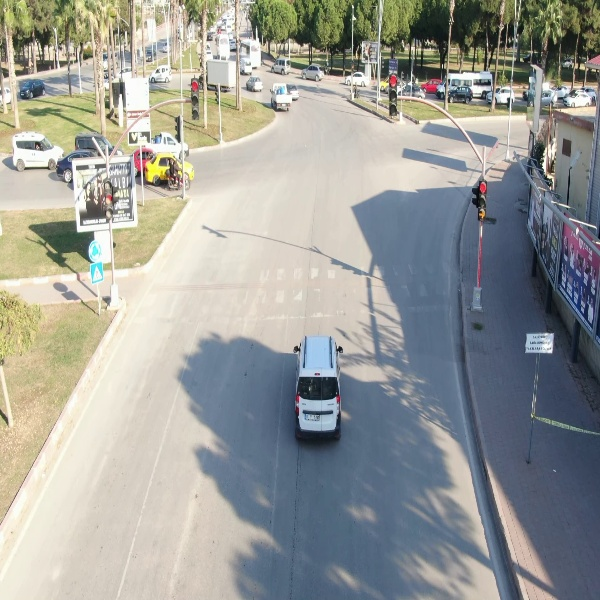car: (291, 332, 346, 447), (12, 127, 63, 175), (18, 77, 49, 104), (148, 62, 177, 86), (486, 84, 517, 106), (446, 84, 474, 108), (343, 70, 371, 92), (564, 89, 593, 110), (298, 63, 327, 82), (269, 56, 292, 78), (245, 73, 264, 96)
